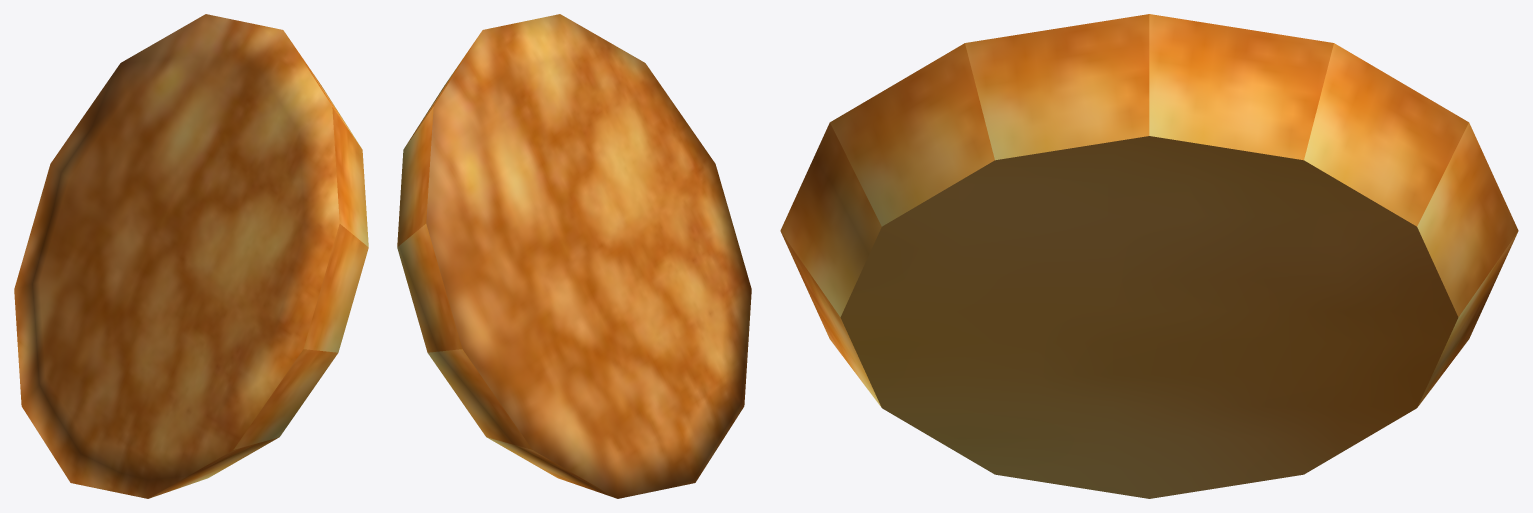
Rendered from AL_Pie_Static.FBX.
3 views of the same model, side by side, from view 1: azimuth 30°, elevation 25°; view 2: azimuth 150°, elevation 25°; view 3: azimuth 270°, elevation 25° (orthographic). The views are drawn at different scales.
Parts seen in each view (by area): view 1: Pie; view 2: Pie; view 3: Pie.
Boxes of the visible parts, x1,y1,x2,y2 form: Pie: [14, 14, 368, 498]; Pie: [397, 14, 751, 498]; Pie: [780, 14, 1518, 498].
Bounding box in the file's own units: 0.4371 × 0.3822 × 0.2502.
